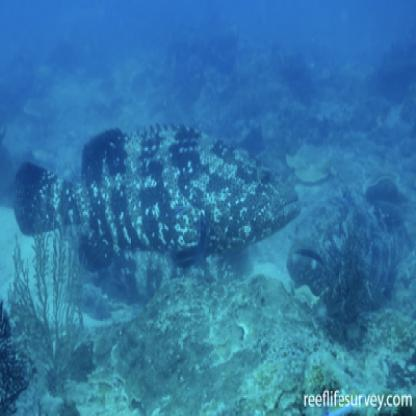grouper: (12, 123, 303, 274)
